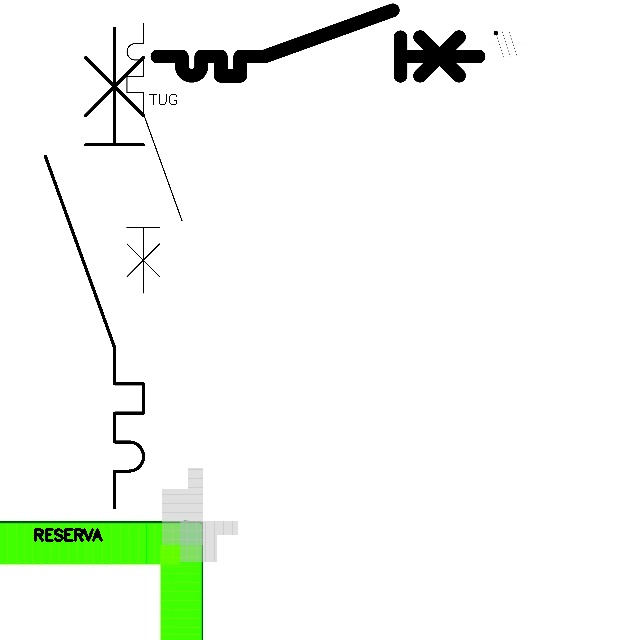interruptor_termomagnetico: (33, 16, 156, 520), (149, 2, 486, 84), (120, 16, 189, 300)
